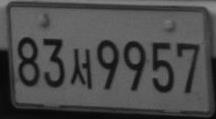3: (42, 37, 65, 88)
5: (151, 41, 174, 93)
7: (176, 42, 200, 93)
8: (16, 35, 40, 87)
9: (122, 39, 146, 91), (96, 39, 119, 89)
서: (70, 48, 93, 89)
